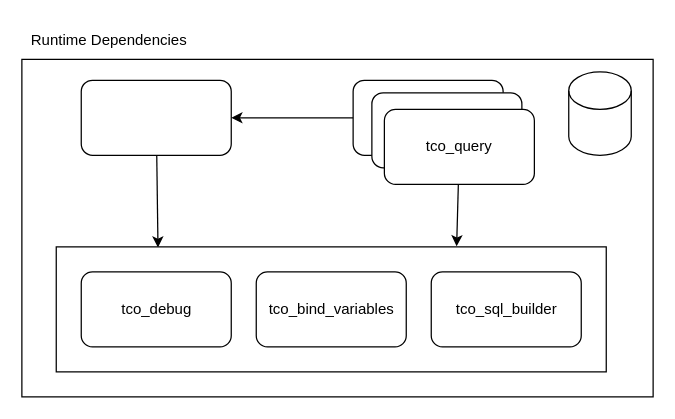
Some shapes in this 675 by 419 pixel diagram are drawn without their labels. Each missing label, with the box of its shape:
TCO: (568, 71, 631, 155)
tco_common: (80, 79, 231, 155)
